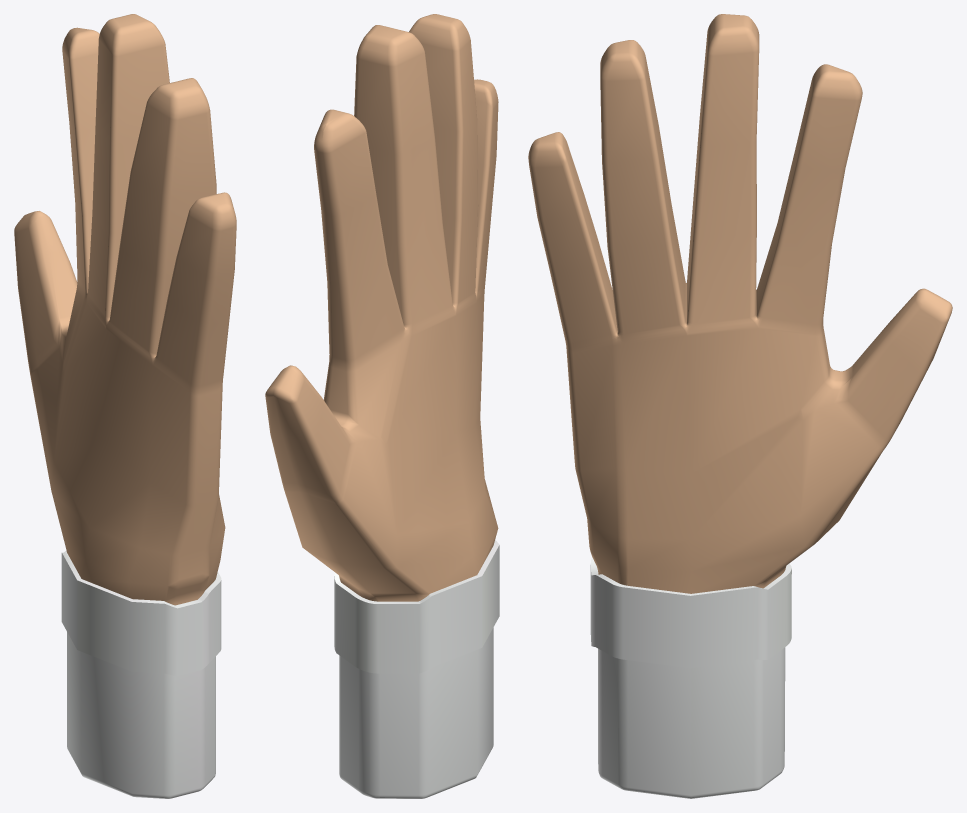
Rendered from hand 1.fbx.
The picture shows the model from 3 angles, left to right: view 1: azimuth 30°, elevation 25°; view 2: azimuth 150°, elevation 25°; view 3: azimuth 270°, elevation 25°; orthographic projection. The views are drawn at different scales.
Visible parts, largest first — view 1: Cylinder; view 2: Cylinder; view 3: Cylinder.
Part boxes in pixels (x1,y1,x2,y2): Cylinder: (14, 14, 236, 798); Cylinder: (265, 14, 499, 798); Cylinder: (528, 14, 952, 798).
Size of the model in its own units: 52.98 by 287 by 146.
1 material, 1 textured.
